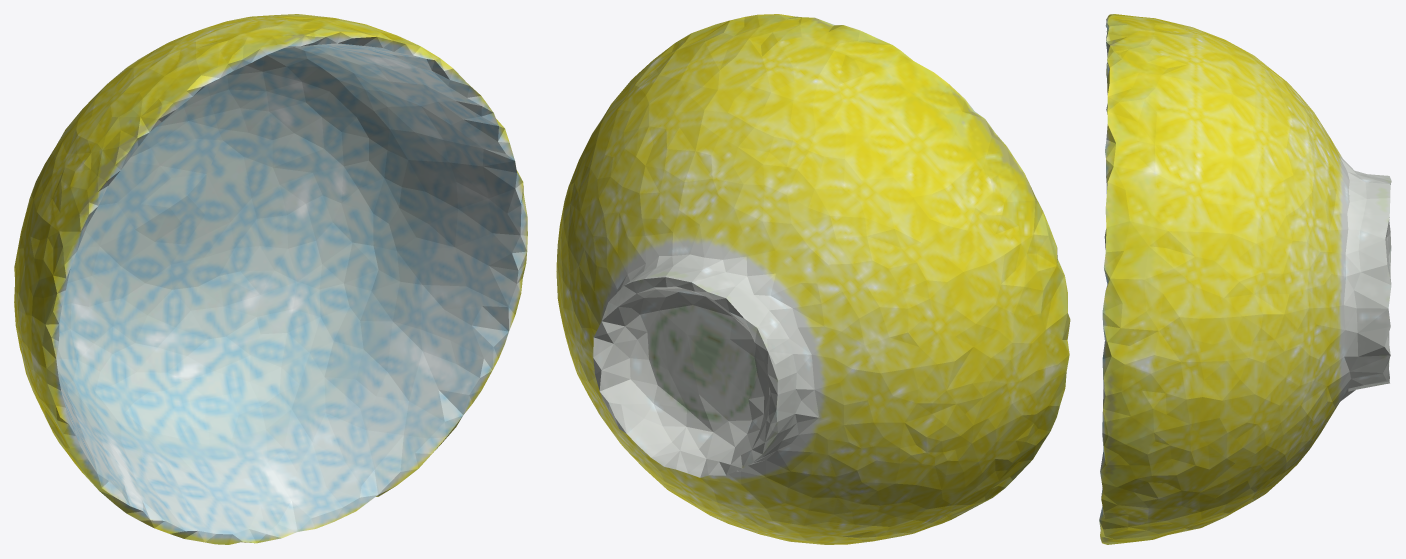
3 renders of one model, left to right at view 1: azimuth 30°, elevation 25°; view 2: azimuth 150°, elevation 25°; view 3: azimuth 270°, elevation 25°, orthographic. The views are drawn at different scales.
Bounding box in the file's own units: 0.1143 × 0.1133 × 0.0624.
1 material, 1 textured.
